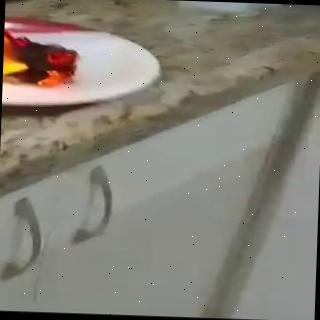fire: (2, 0, 82, 91)
